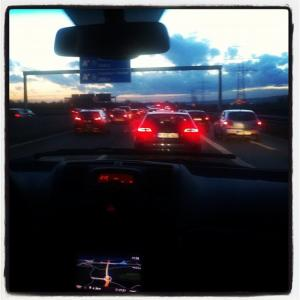Vehicle-registration-plate: (159, 133, 181, 138)
